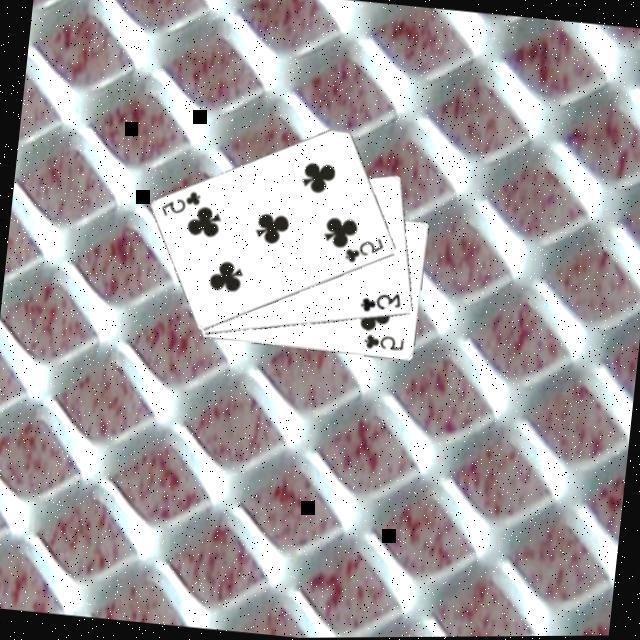3C: (355, 288, 404, 320)
5C: (155, 185, 202, 223), (339, 232, 385, 269), (358, 331, 405, 356)
